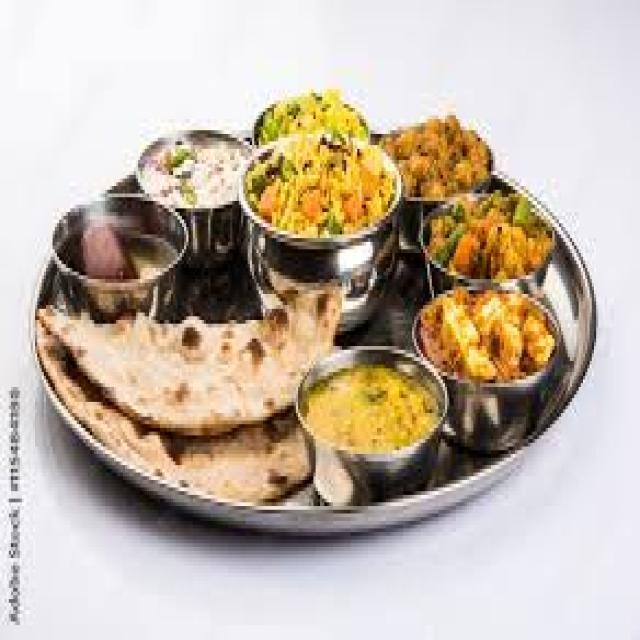curd: (141, 128, 246, 227)
dal: (297, 341, 444, 482), (52, 194, 185, 307)
raita: (138, 127, 248, 227)
roti: (81, 278, 309, 448)
sweet: (56, 194, 184, 313)
veg-fry: (246, 66, 390, 268)
